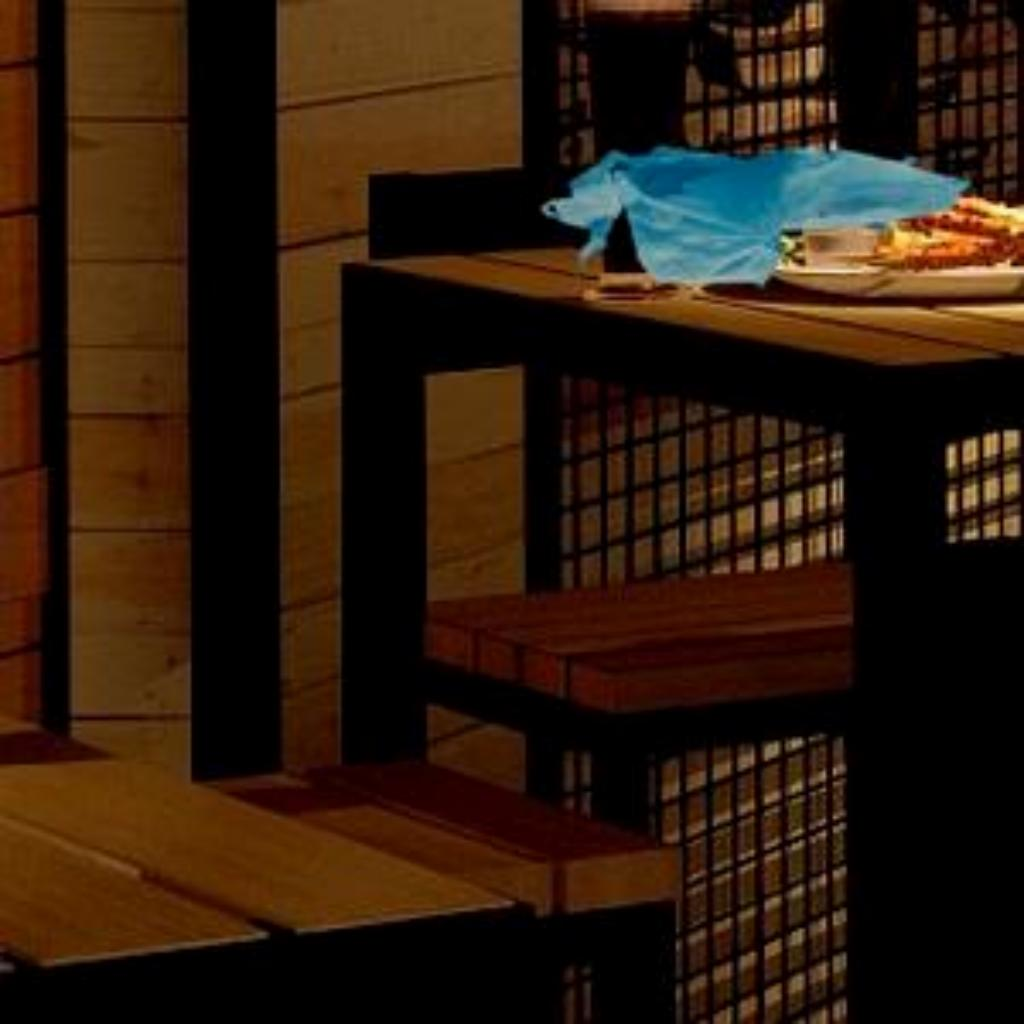garbage: (541, 111, 951, 340)
